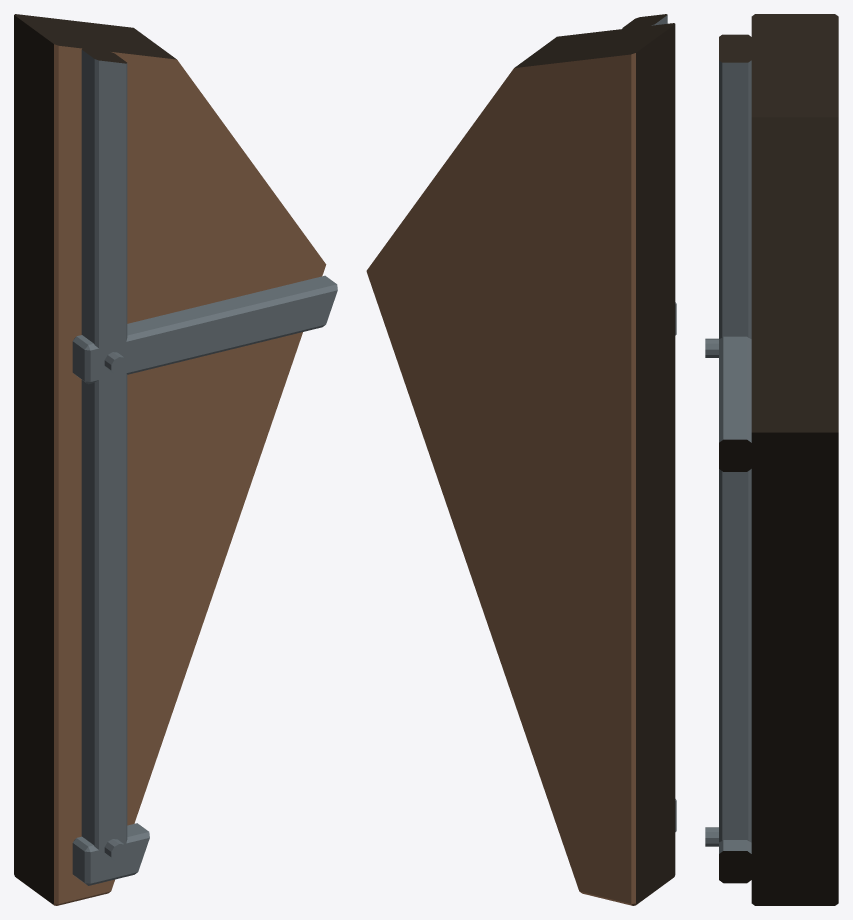
Rendered from SM_DoorShard_03_22.fbx.
The picture shows the model from 3 angles, left to right: view 1: azimuth 30°, elevation 25°; view 2: azimuth 150°, elevation 25°; view 3: azimuth 270°, elevation 25°; orthographic projection.
Parts seen in each view (by area): view 1: SM_DoorShard_03_22; view 2: SM_DoorShard_03_22; view 3: SM_DoorShard_03_22.
Part boxes in pixels (x1=…): SM_DoorShard_03_22: x1=14, y1=14, x2=337, y2=905; SM_DoorShard_03_22: x1=366, y1=14, x2=676, y2=905; SM_DoorShard_03_22: x1=705, y1=14, x2=838, y2=905.
Bounding box in the file's own units: 57.56 × 24.5 × 175.
